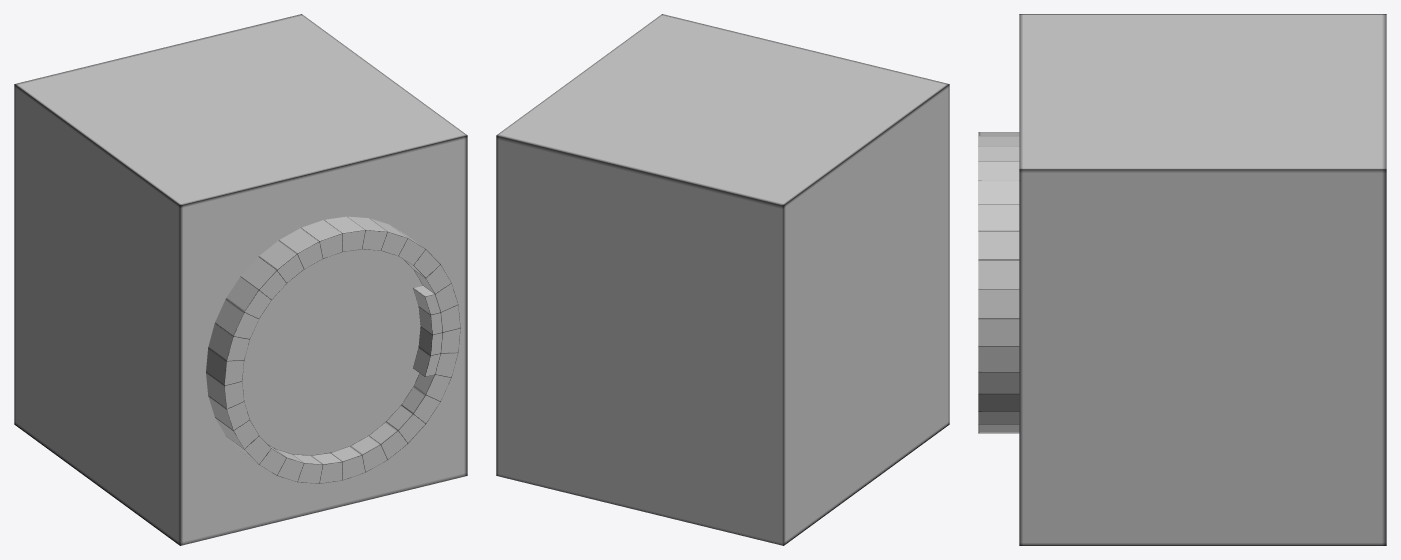
File: Dryer Model.fbx
3 views of the same model, side by side, from view 1: azimuth 30°, elevation 25°; view 2: azimuth 150°, elevation 25°; view 3: azimuth 270°, elevation 25° (orthographic). The views are drawn at different scales.
Parts seen in each view (by area): view 1: Dryer, Door (d); view 2: Dryer; view 3: Dryer, Door (d).
Part boxes in pixels (left/top/right/bottom): Dryer: left=14, top=14, right=467, bottom=545; Door (d): left=206, top=216, right=460, bottom=483; Dryer: left=496, top=14, right=949, bottom=545; Dryer: left=1019, top=14, right=1386, bottom=545; Door (d): left=978, top=132, right=1019, bottom=433.
Size of the model in its own units: 128 by 145 by 143.
1 material, 1 textured.
